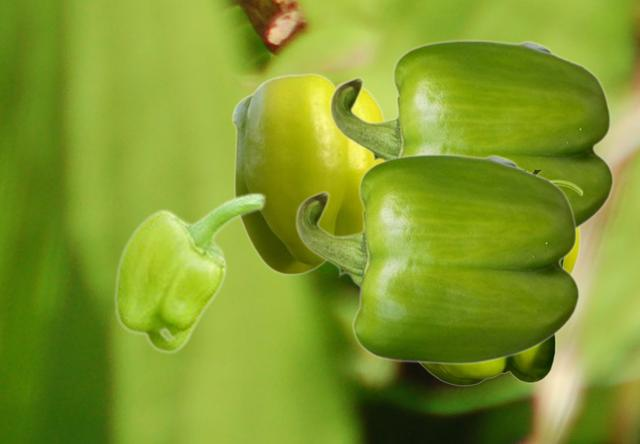bell_pepper: (295, 153, 579, 364), (329, 39, 613, 228), (420, 170, 582, 385), (231, 72, 385, 274), (113, 191, 266, 353)
